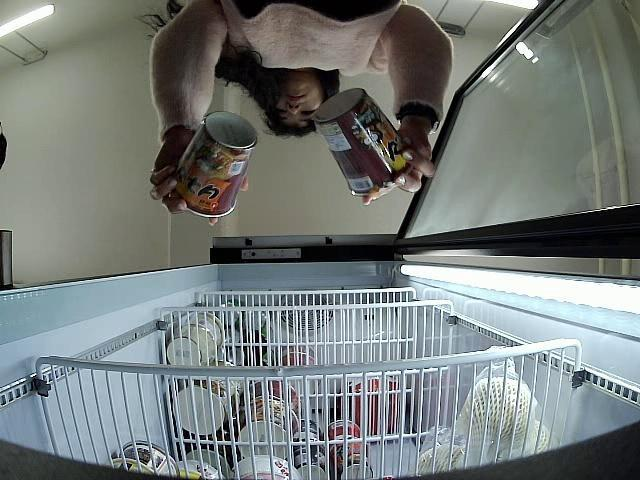06_nuguri_S: (315, 88, 406, 196), (176, 112, 257, 216)
